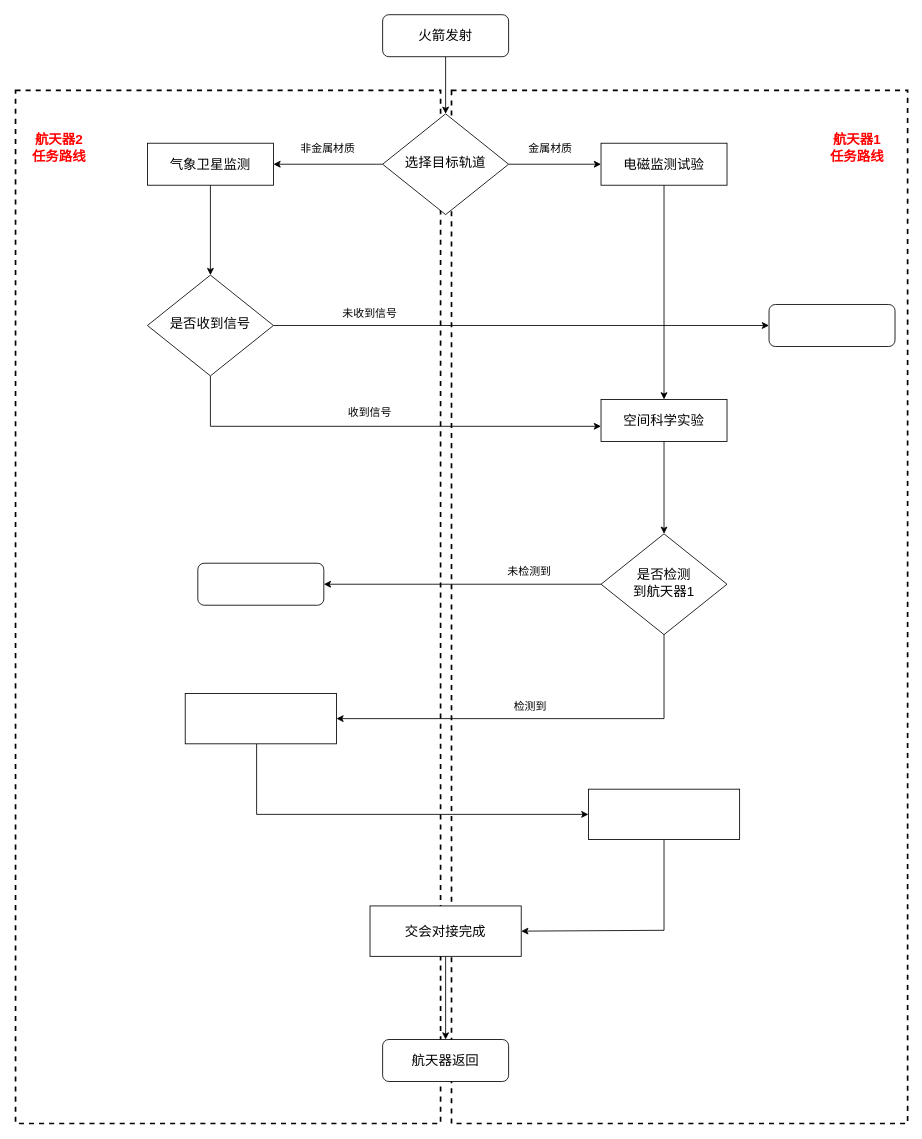
This 922x1139 diagram has some shape labels left out. The shapes that lost their labels are listed below. From the top down, each one's centre as x and y in pixels, then its label:
At (x=831, y=325): "航天器1停止运动".
At (x=260, y=583): "航天器2停止运动".
At (x=260, y=718): "航天器2到达指定对接点".
At (x=664, y=814): "航天器1到达指定对接点".
